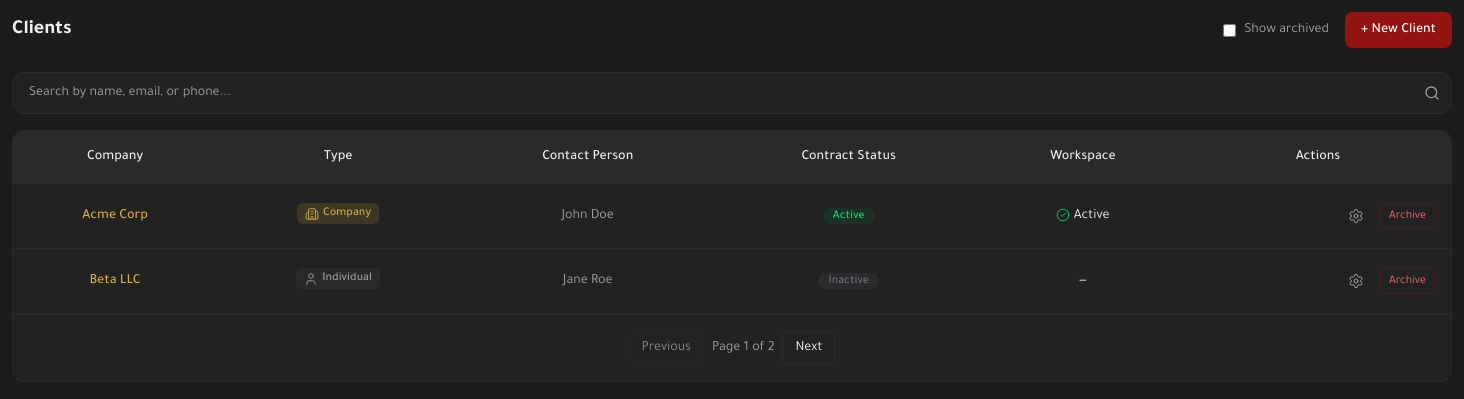
Test: ClientsPage (characterization) › paginates without carrying the search query along (existing behavior)
Expected: the link "Acme Corp" is shown, top-left (82, 209), bottom-right (148, 223)
Expected: the text "Page 1 of 2" is shown, top-left (712, 338), bottom-right (774, 358)
Click the button "Next": click(809, 348) top-left (782, 331), bottom-right (835, 365)
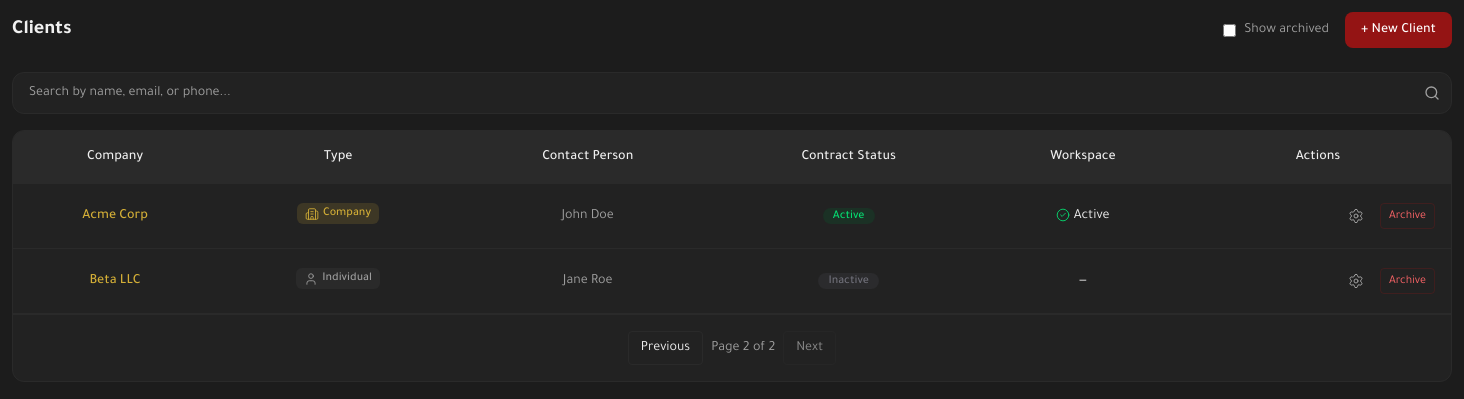
Expected: the text "Page 2 of 2" is shown, top-left (711, 338), bottom-right (775, 358)
